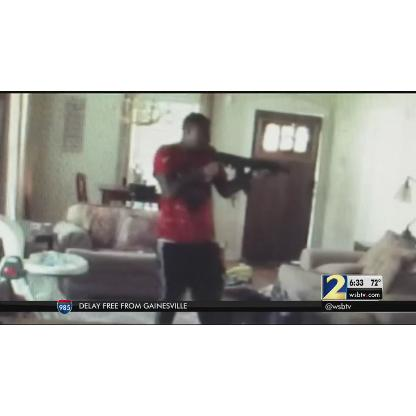gun: (181, 147, 291, 197)
